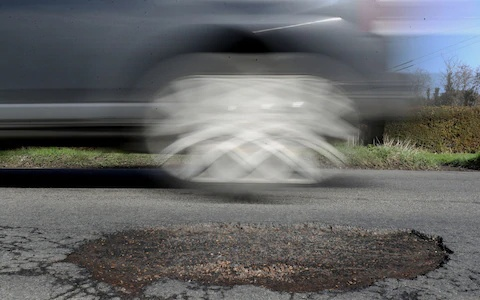pothole: (70, 154, 451, 291)
